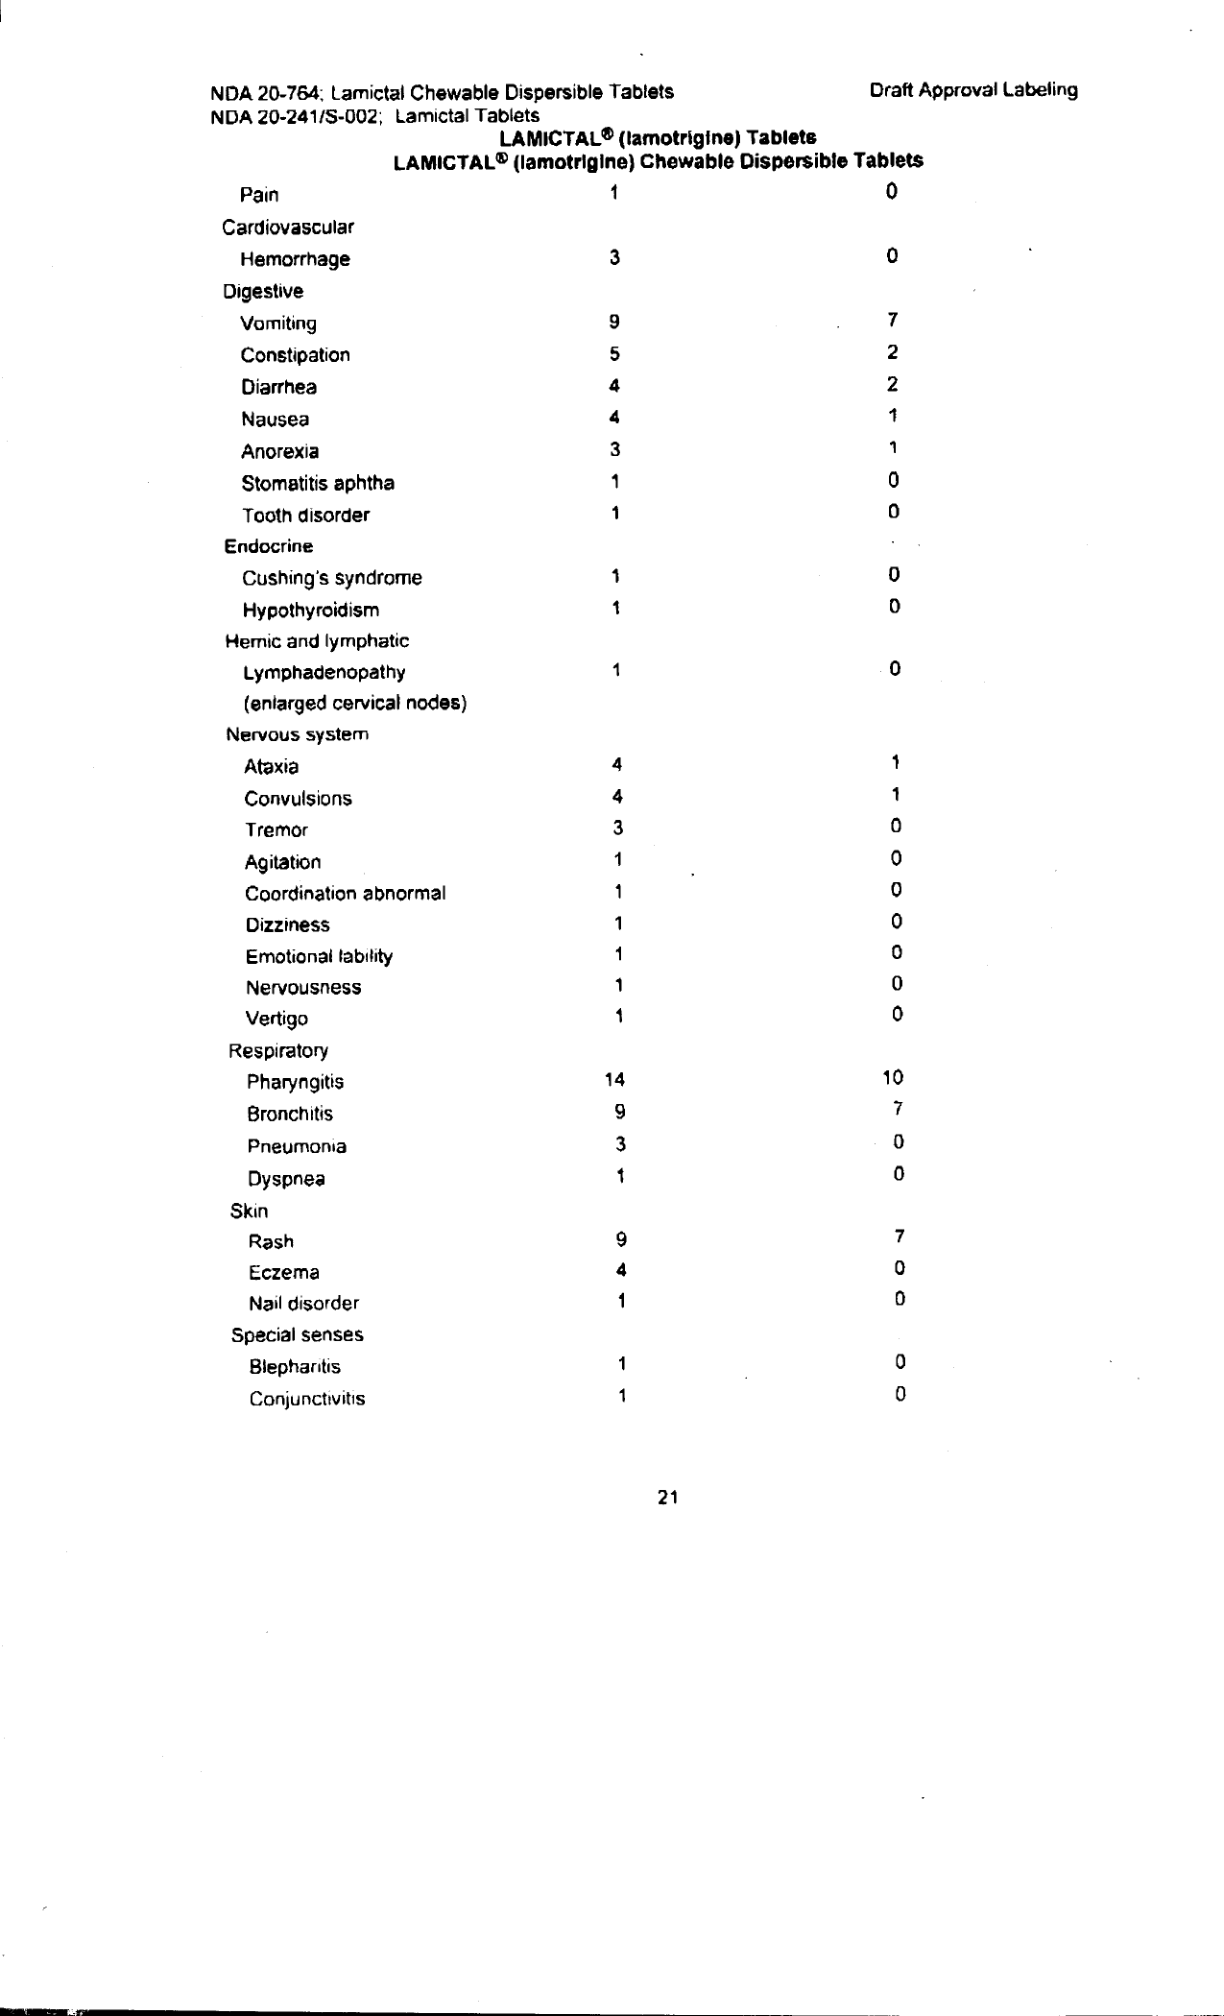nolines: (217, 179, 910, 1405)
